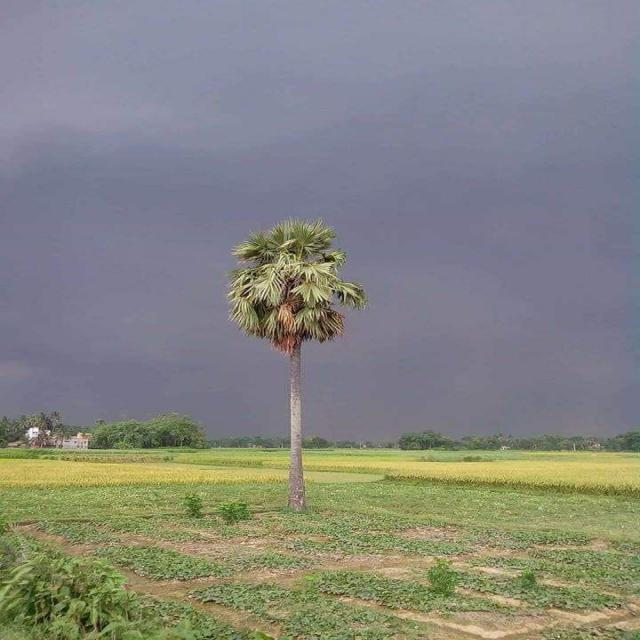Plam-Tree: (228, 214, 375, 524), (237, 231, 355, 354)
